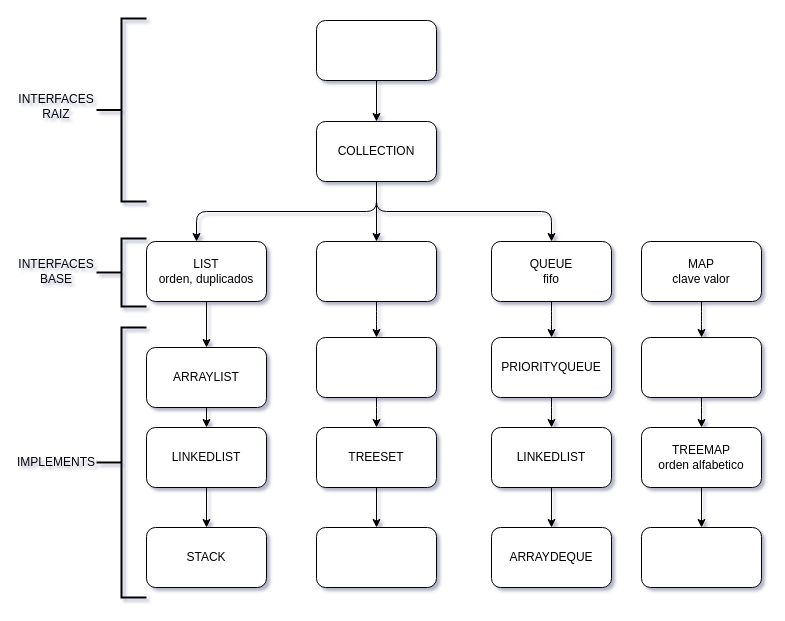
Some shapes in this 785 by 621 pixel diagram are drawn without their labels. Here are the shapes that lost their labels. From the top down, the centre of each, then its label:
(376,50): ITERABLE
(376,271): SET sin orden, sin duplicados
(376,367): HASHSET
(701,367): HASHMAP sin orden, hashing
(376,557): LINKEDHASH SET
(701,557): LINKENDHASHMAP orden insersion/lectura
